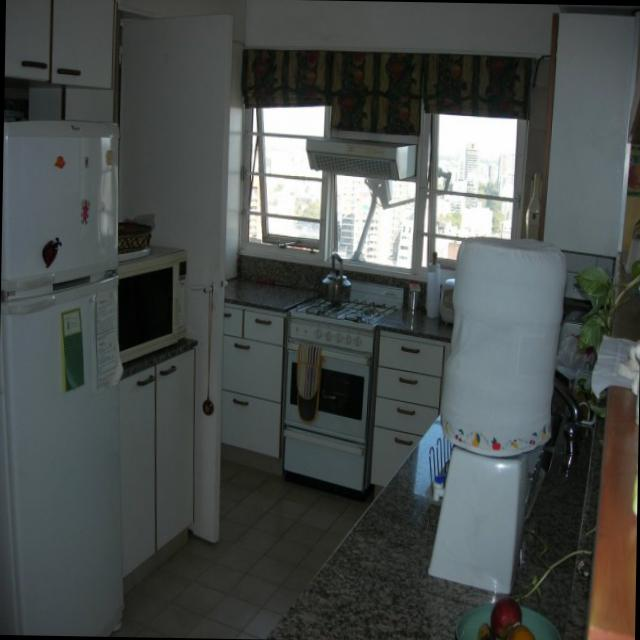2001: (427, 115, 524, 292), (241, 101, 329, 254), (328, 182, 413, 269)
2036: (264, 301, 608, 637), (224, 273, 331, 317)
cupboard crop: (532, 7, 635, 255), (127, 338, 190, 592)
cupboard door: (6, 0, 117, 86)
dishcloth: (293, 340, 323, 425)
drawers crop: (221, 303, 277, 460)
drawers toy: (371, 332, 446, 491)
extractor hood: (307, 127, 416, 181)
floor -X: (0, 411, 596, 640)
fridge crop: (0, 118, 127, 627)
microwave oven: (117, 242, 185, 365)
stove burner: (279, 276, 401, 486)
wall clock: (222, 0, 626, 432), (0, 0, 137, 546), (123, 0, 230, 540), (583, 13, 638, 640)
